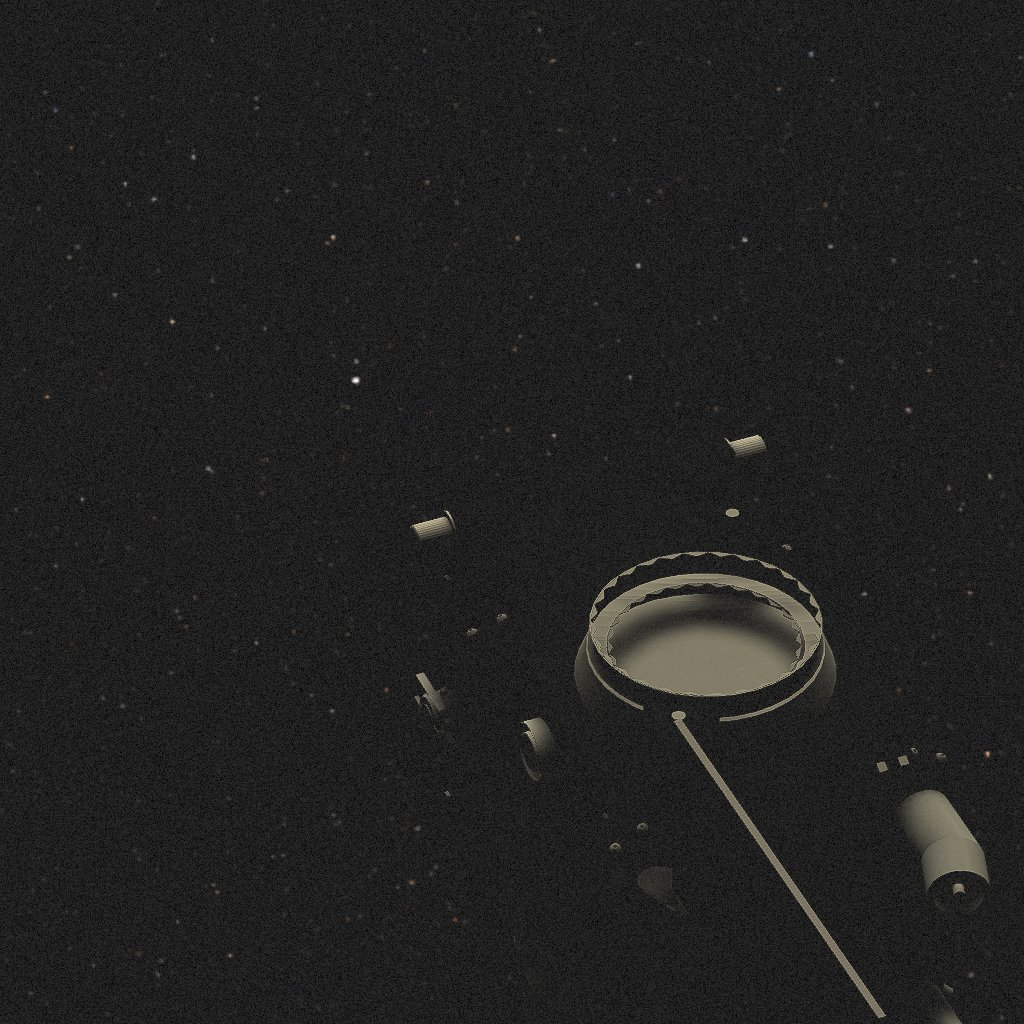proba_3_csc: (389, 411, 991, 1009)
